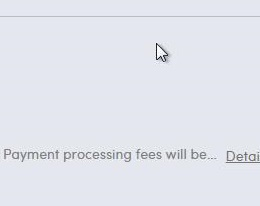cursor: (154, 41, 169, 63)
